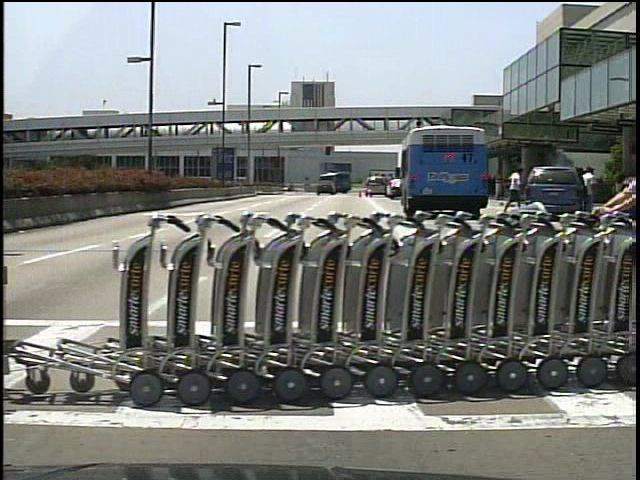person: (580, 165, 601, 214), (574, 164, 589, 217), (506, 163, 521, 213)
